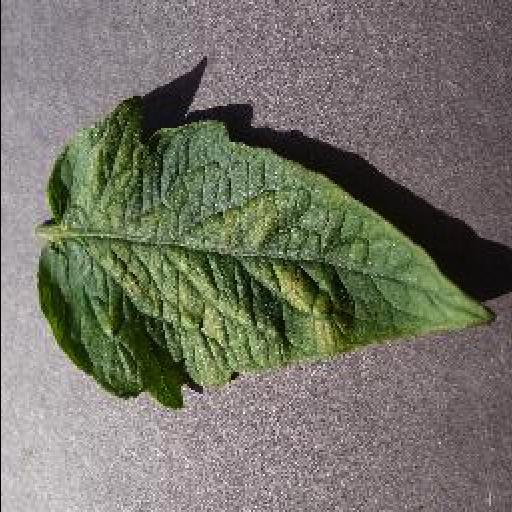disease_tomato: (36, 102, 494, 410)
